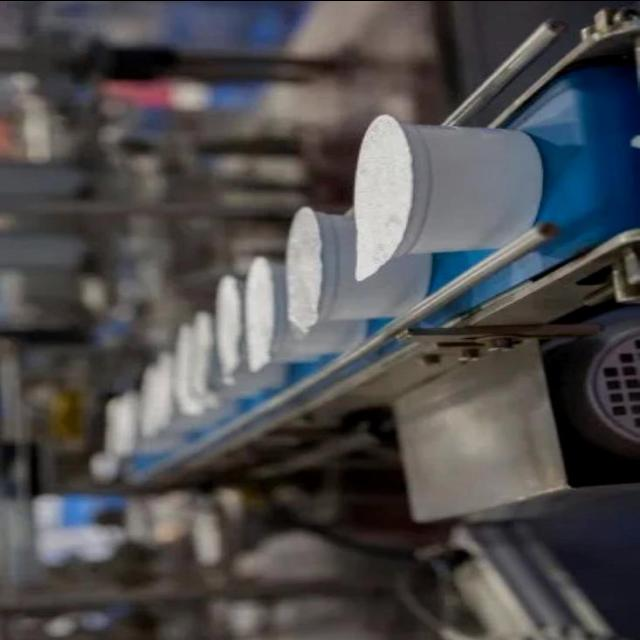food: (350, 112, 544, 280), (270, 204, 438, 328)
